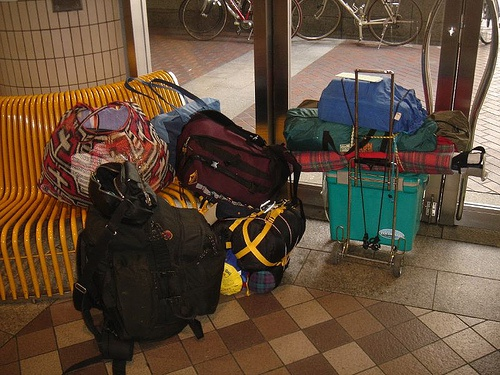non-vehicle: (296, 0, 421, 49), (182, 0, 301, 41), (479, 1, 500, 44)
